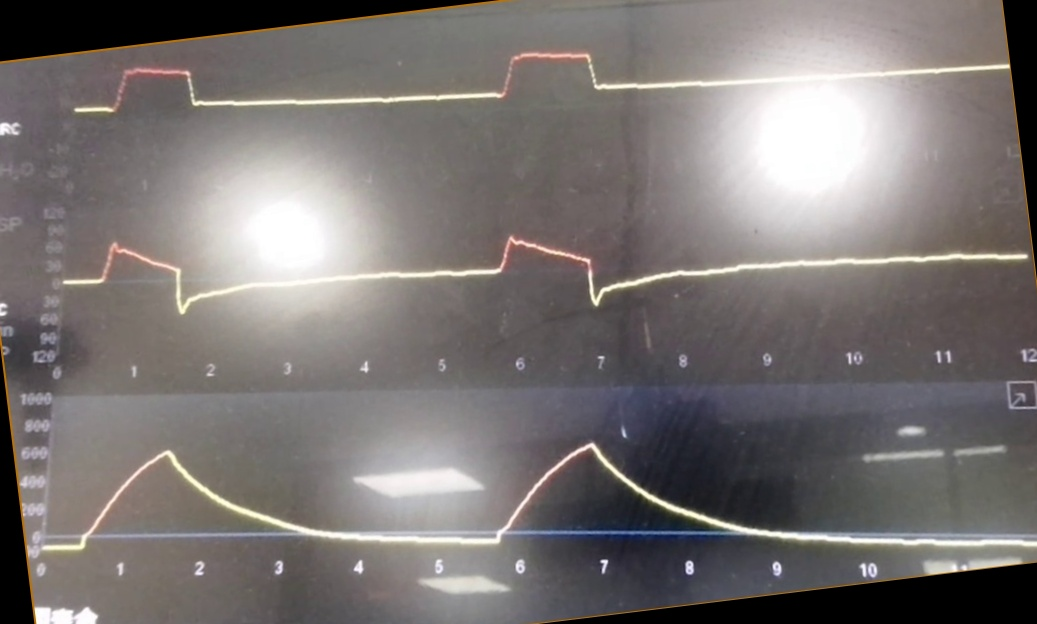Normal Flow: (65, 203, 1028, 347)
Normal Volume: (43, 424, 1034, 556)
